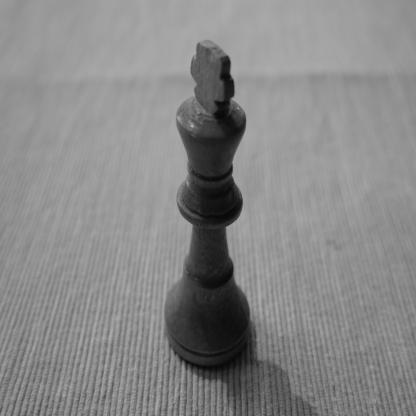white-king: (163, 39, 251, 370)
